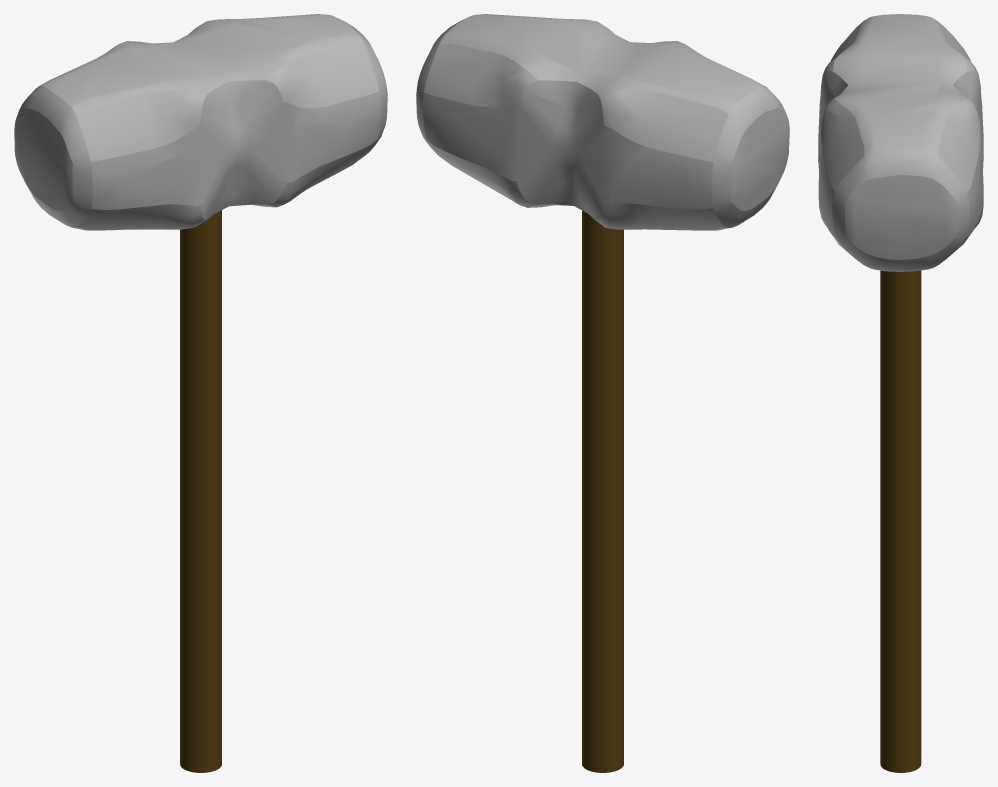
File: barrier-4.fbx
3 renders of one model, left to right at view 1: azimuth 30°, elevation 25°; view 2: azimuth 150°, elevation 25°; view 3: azimuth 270°, elevation 25°, orthographic. The views are drawn at different scales.
Visible parts, largest first — view 1: sledgehammer.001; view 2: sledgehammer.001; view 3: sledgehammer.001.
Boxes of the visible parts, bbox=[...] form: sledgehammer.001: bbox=[14, 14, 387, 772]; sledgehammer.001: bbox=[416, 14, 789, 772]; sledgehammer.001: bbox=[818, 14, 983, 772].
Bounding box in the file's own units: 147 × 312 × 67.93.
